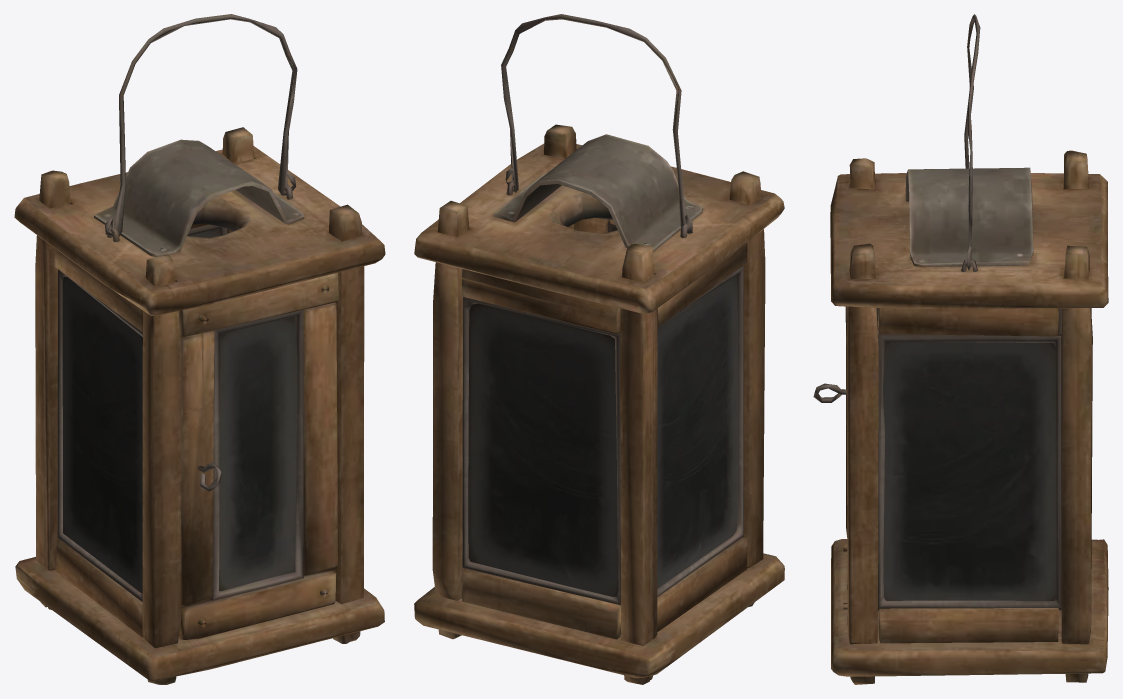
Rendered from wooden_lantern_01_lod1.glb.
3 renders of one model, left to right at view 1: azimuth 30°, elevation 25°; view 2: azimuth 150°, elevation 25°; view 3: azimuth 270°, elevation 25°, orthographic.
Parts seen in each view (by area): view 1: wooden_lantern_01; view 2: wooden_lantern_01; view 3: wooden_lantern_01.
Boxes of the visible parts, bbox=[...] form: wooden_lantern_01: bbox=[14, 14, 385, 684]; wooden_lantern_01: bbox=[414, 14, 784, 684]; wooden_lantern_01: bbox=[813, 14, 1108, 684].
Bounding box in the file's own units: 0.221 × 0.5287 × 0.2337.
Materials: 2 (2 with a texture image).
